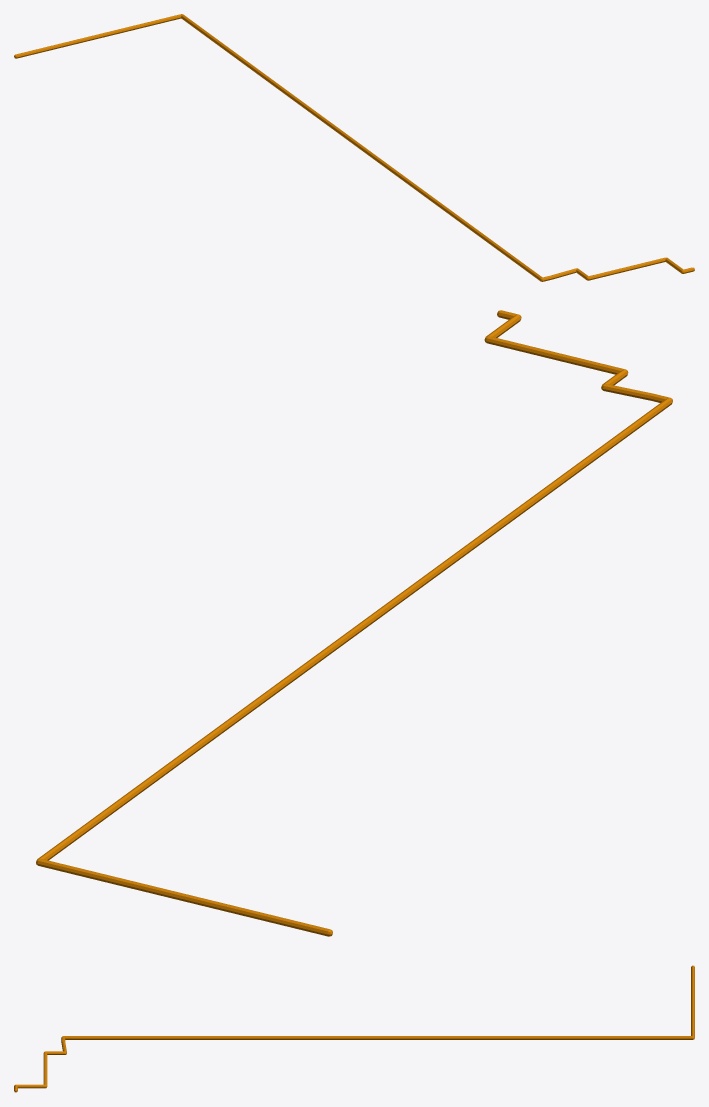
3 renders of one model, top to bottom at view 1: azimuth 30°, elevation 25°; view 2: azimuth 150°, elevation 25°; view 3: azimuth 270°, elevation 25°, orthographic. The views are drawn at different scales.
Bounding box in the file's own units: 1504 × 20 × 3461.
